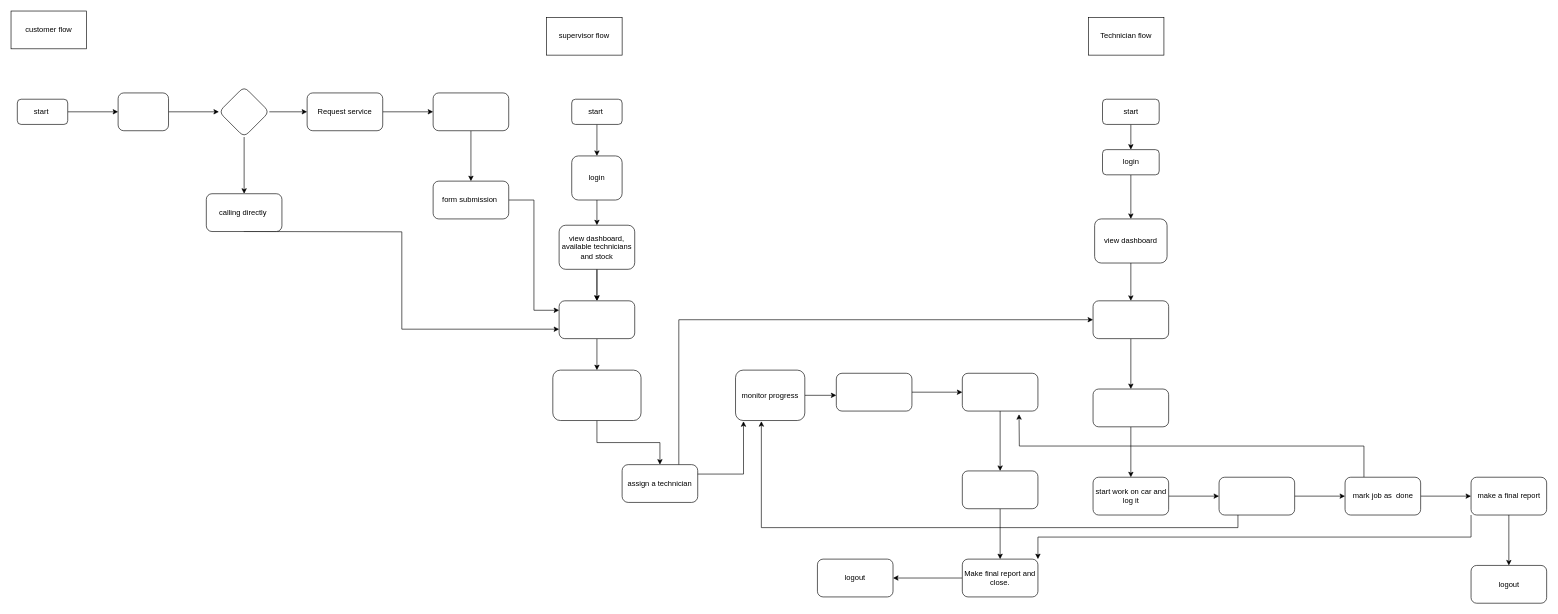
Some shapes in this 1558 by 614 pixel diagram are drawn without their labels. The box of each missing label's shape, as (x1, y1, x2, y2) in pixels:
complete job: (962, 373, 1038, 411)
contact menthod: (218, 86, 269, 137)
create invoice: (962, 470, 1038, 509)
filing in form: (432, 92, 509, 131)
give daily status updates + photos: (1218, 477, 1295, 515)
Job card is created and a priority is set: (552, 369, 641, 421)
Landing Page: (117, 92, 169, 131)
send updates to client: (836, 373, 912, 411)
supervisor receives notification: (558, 300, 635, 339)
view assisgned jobs: (1092, 300, 1169, 339)
view details and photos: (1092, 388, 1169, 427)
